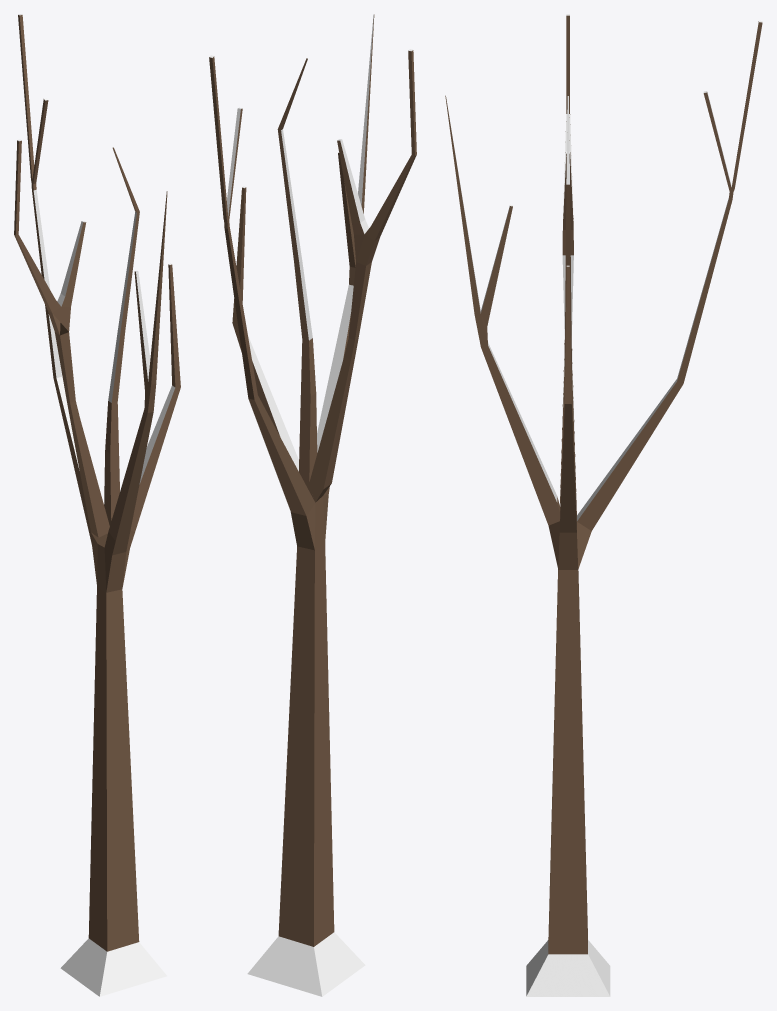
The model's file is tree 16.fbx.
3 renders of one model, left to right at view 1: azimuth 30°, elevation 25°; view 2: azimuth 150°, elevation 25°; view 3: azimuth 270°, elevation 25°, orthographic. The views are drawn at different scales.
Parts seen in each view (by area): view 1: Tree 16; view 2: Tree 16; view 3: Tree 16.
Part boxes in pixels (x1,y1,x2,y2): Tree 16: (14,14,180,996); Tree 16: (209,14,416,996); Tree 16: (445,14,762,996).
Size of the model in its own units: 103 by 538 by 161.
Materials: 1 (1 with a texture image).
